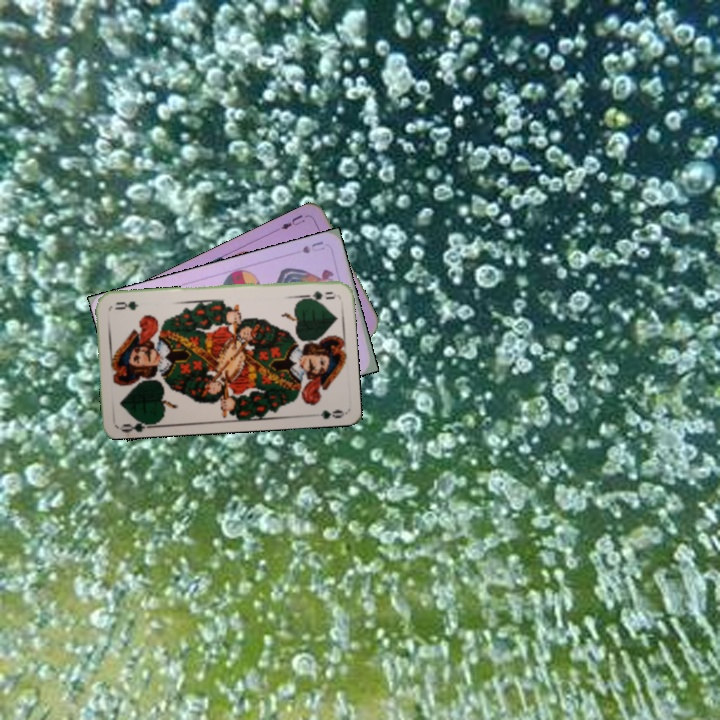EU: (277, 210, 311, 232)
GO: (116, 413, 157, 434), (298, 287, 338, 302)
SU: (298, 237, 327, 256)
